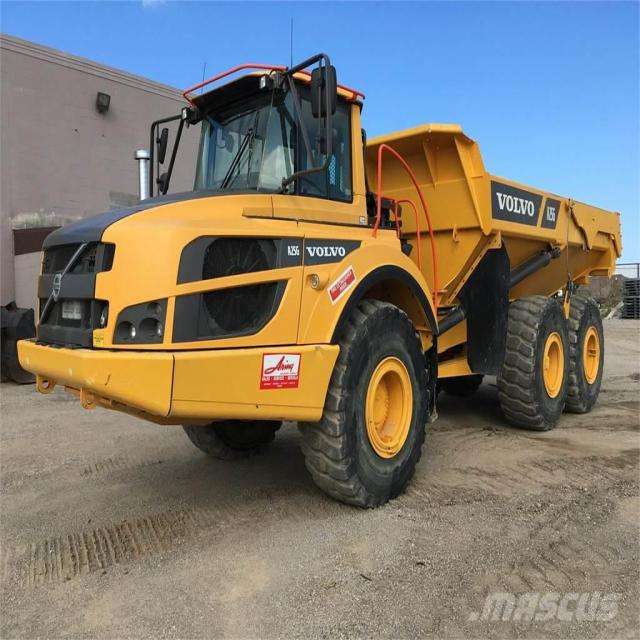dump_truck: (27, 39, 636, 518)
